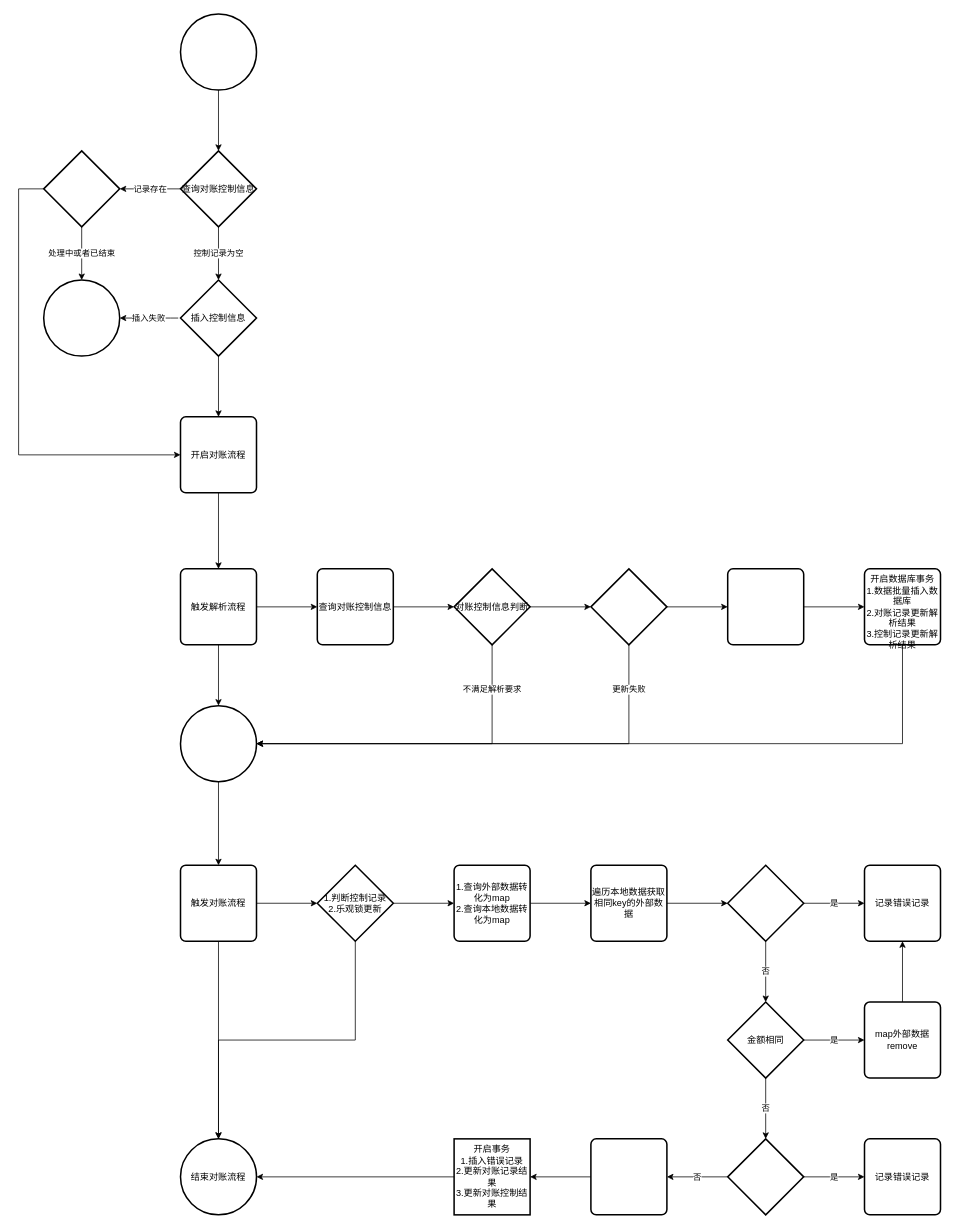
This 955x1228 diagram has some shape labels left out. Each missing label, with the centre of its shape:
"1.获取远程文件 2.解析银行交易文件到内存" goes at (x=765, y=606).
"乐观锁更新为解析中" goes at (x=628, y=606).
"任务开始" goes at (x=218, y=51).
"内存剩余的外部数据转化为外部单边的错误记录" goes at (x=628, y=1176).
"对账流程结束" goes at (x=81, y=317).
"控制状态是否可继续处理" goes at (x=81, y=188).
"无对应外部数据" goes at (x=765, y=1176).
"解析流程结束" goes at (x=218, y=743).
"金额不同" goes at (x=765, y=903).
